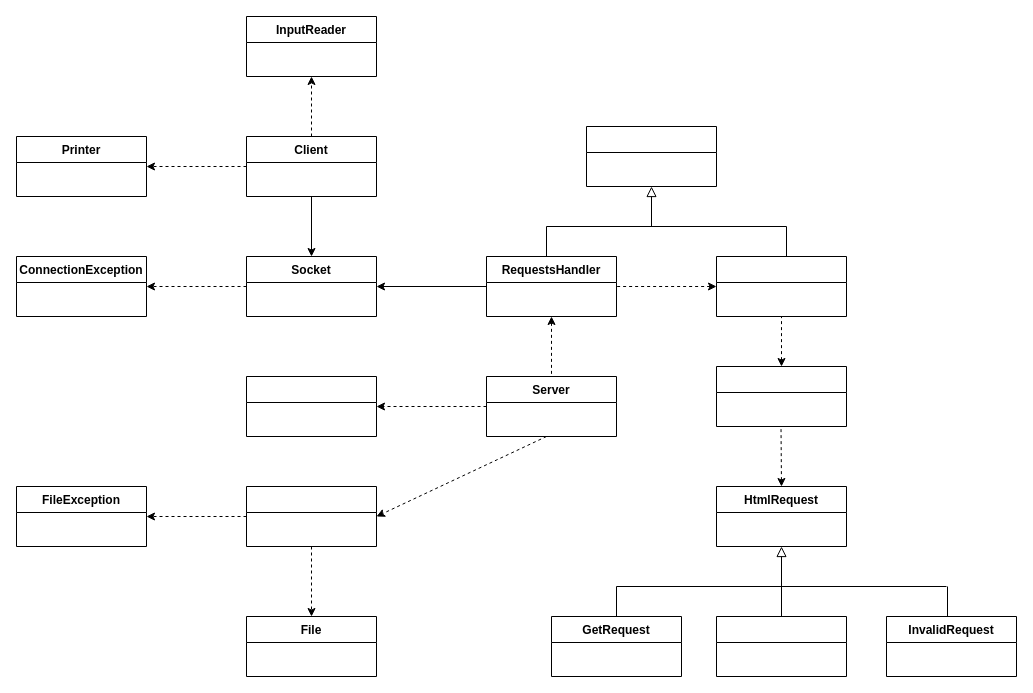
This 1033x693 diagram has some shape labels left out. The box of each missing label's shape, as (x1, y1, x2, y2) in pixels:
ClientHandler: (716, 256, 846, 316)
FileReader: (246, 486, 376, 546)
InfoHandler: (716, 366, 846, 426)
InputChecker: (246, 376, 376, 436)
PostRequest: (716, 616, 846, 676)
Thread: (586, 126, 716, 186)
